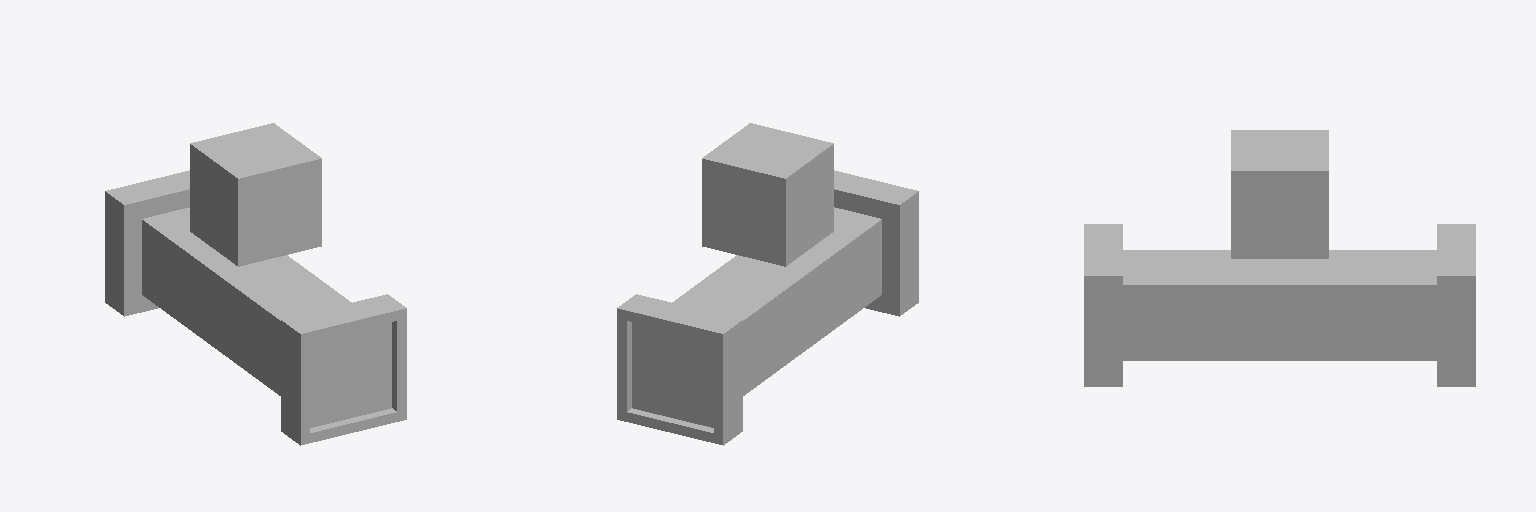
The model's file is pipe.obj.
3 views of the same model, side by side, from view 1: azimuth 30°, elevation 25°; view 2: azimuth 150°, elevation 25°; view 3: azimuth 270°, elevation 25° (orthographic).
Visible parts, largest first — view 1: Cube.002_Cube.003; view 2: Cube.002_Cube.003; view 3: Cube.002_Cube.003.
Part boxes in pixels (x1,y1,x2,y2): Cube.002_Cube.003: (105,123,406,445); Cube.002_Cube.003: (617,123,918,445); Cube.002_Cube.003: (1084,130,1475,386).
Bounding box in the file's own units: 0.5787 × 1.09 × 1.84.